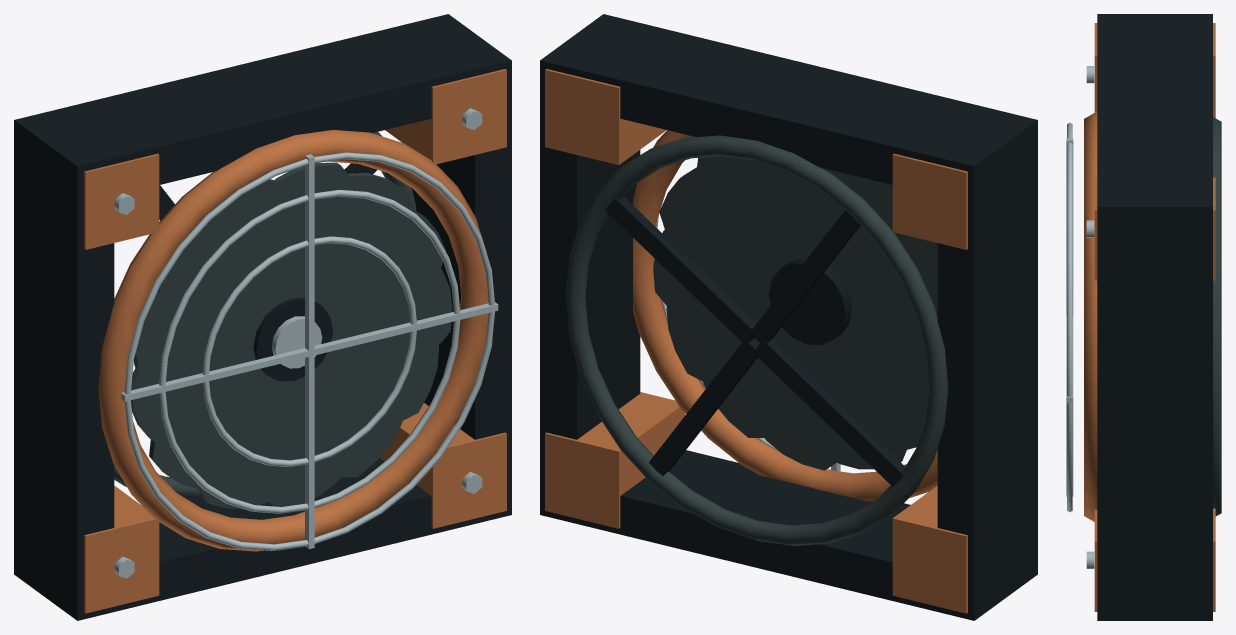
File: fan-turbine-200.glb
3 views of the same model, side by side, from view 1: azimuth 30°, elevation 25°; view 2: azimuth 150°, elevation 25°; view 3: azimuth 270°, elevation 25° (orthographic). The views are drawn at different scales.
Parts seen in each view (by area): view 1: Rubber and ABS, Anodized graphite, Copper heat pipes, Brushed aluminium, fan-rotor, fan-turbine-200; view 2: Rubber and ABS (×2), Anodized graphite, Copper heat pipes, fan-turbine-200, fan-rotor; view 3: Rubber and ABS, Copper heat pipes, Brushed aluminium, fan-turbine-200.
Boxes of the visible parts, left/top/right/bottom form: Rubber and ABS: left=14, top=14, right=511, bottom=620; Anodized graphite: left=131, top=162, right=452, bottom=508; Copper heat pipes: left=84, top=69, right=506, bottom=613; Brushed aluminium: left=114, top=108, right=498, bottom=578; fan-rotor: left=253, top=298, right=332, bottom=381; fan-turbine-200: left=114, top=132, right=416, bottom=497; Rubber and ABS (×2): left=540, top=14, right=1037, bottom=620; Anodized graphite: left=653, top=156, right=937, bottom=470; Copper heat pipes: left=545, top=69, right=967, bottom=613; fan-turbine-200: left=566, top=135, right=948, bottom=545; fan-rotor: left=768, top=258, right=852, bottom=344; Rubber and ABS: left=1097, top=14, right=1212, bottom=620; Copper heat pipes: left=1084, top=23, right=1215, bottom=611; Brushed aluminium: left=1066, top=66, right=1094, bottom=568; fan-turbine-200: left=1213, top=117, right=1221, bottom=516.
Size of the model in its own units: 1.66 by 1.66 by 0.5641.
